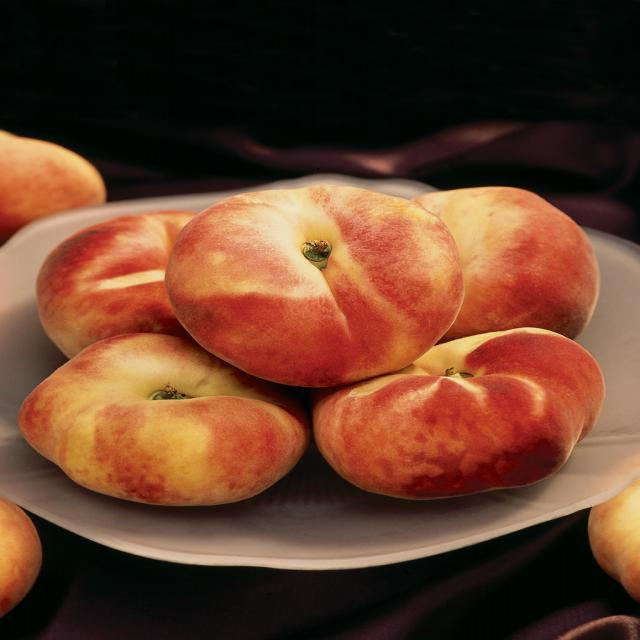Peach: (15, 181, 608, 509), (0, 128, 111, 240), (586, 458, 639, 601), (0, 497, 46, 617)
